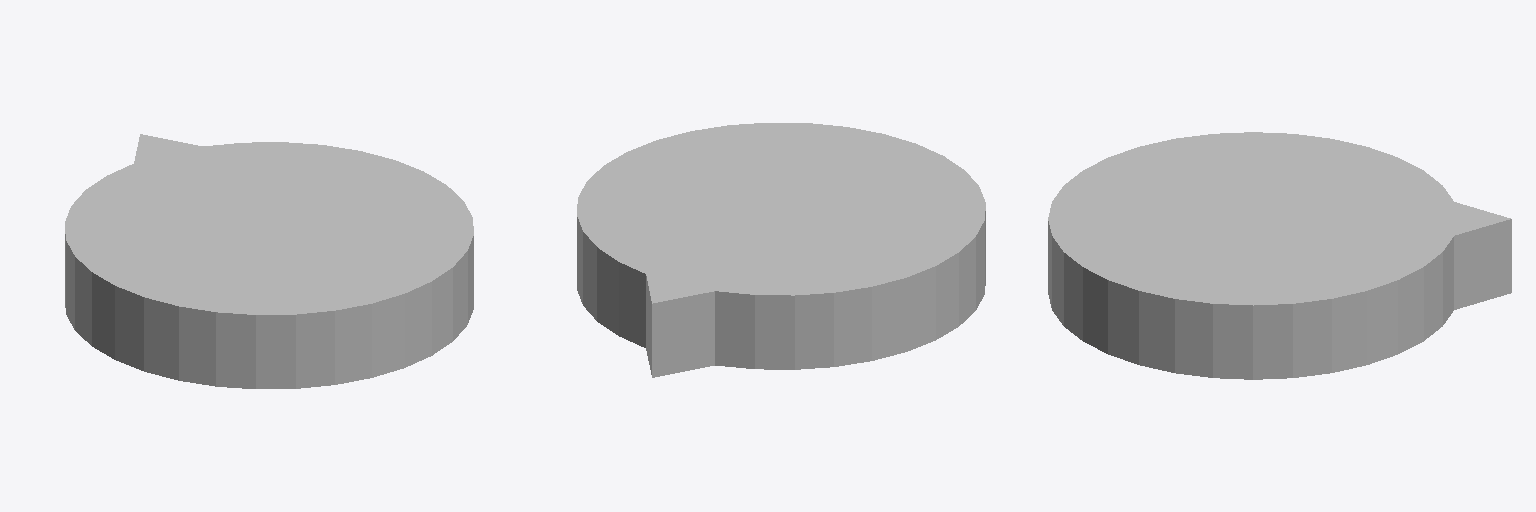
File: puck.obj
The picture shows the model from 3 angles: view 1: azimuth 30°, elevation 25°; view 2: azimuth 150°, elevation 25°; view 3: azimuth 270°, elevation 25°; orthographic projection.
Parts seen in each view (by area): view 1: Cylinder; view 2: Cylinder; view 3: Cylinder.
Part boxes in pixels (x1,y1,x2,y2): Cylinder: (65, 134, 473, 388); Cylinder: (577, 123, 985, 377); Cylinder: (1048, 132, 1511, 379).
Size of the model in its own units: 1 by 0.2 by 1.13.